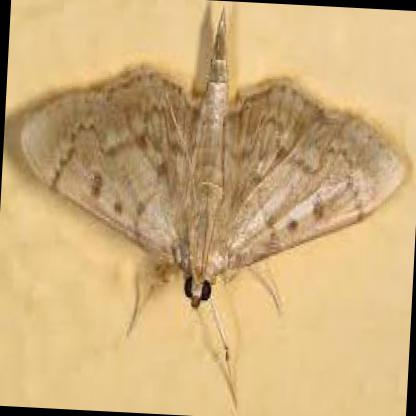Leaf Webber: (11, 5, 408, 314)
